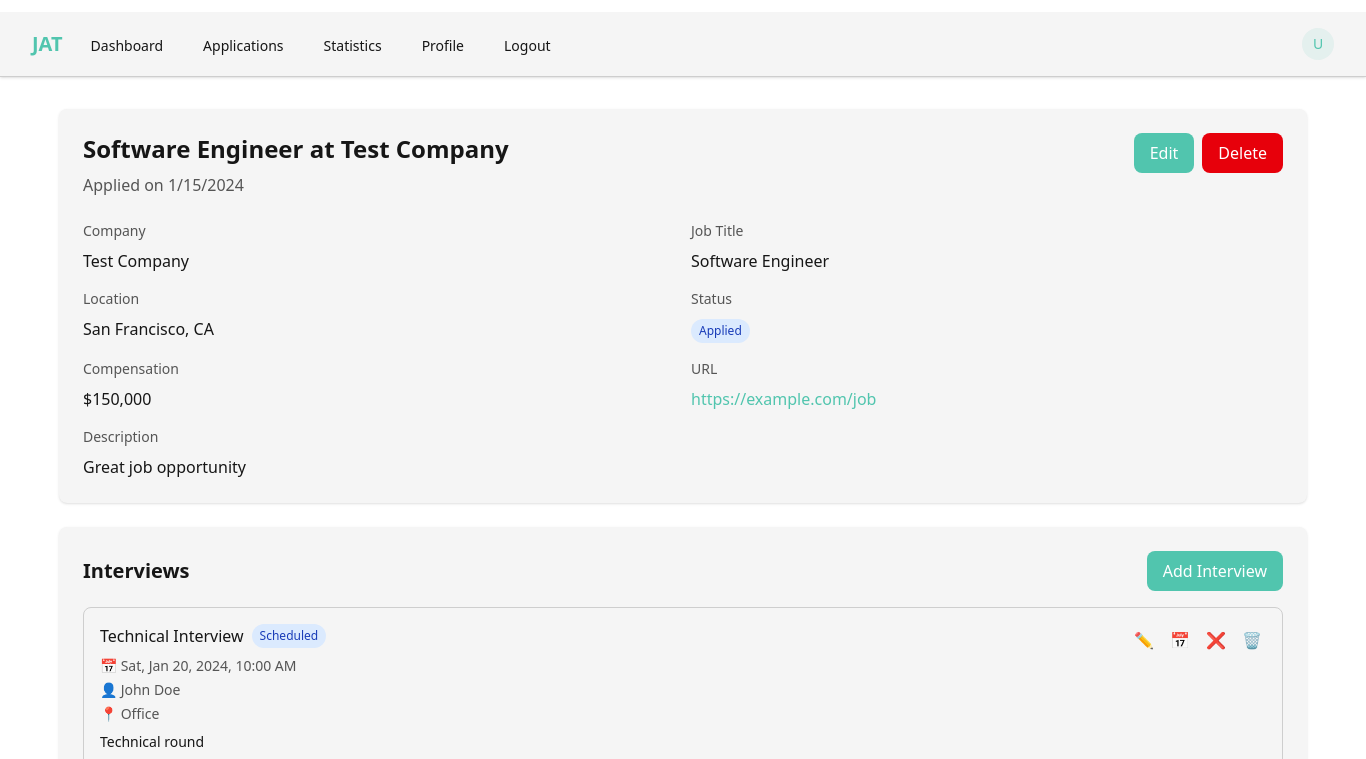
Test: ApplicationDetail Component › Edit Application › should handle save errors gracefully
Expected: the text "Software Engineer" is shown, [691,250,829,272]
Click the button "Edit": click(1164, 153) [1134,133,1194,173]
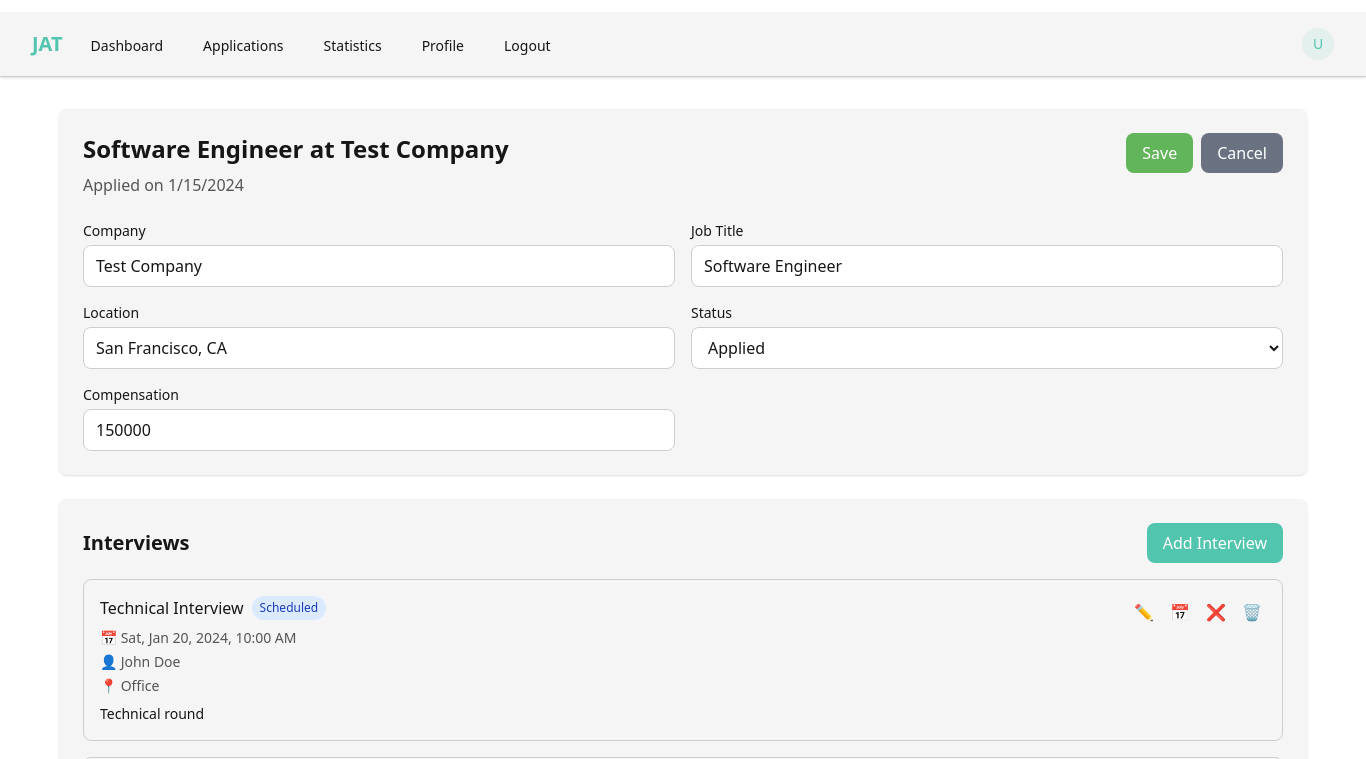
Click the button "Save": click(1160, 153) [1126,133,1193,173]
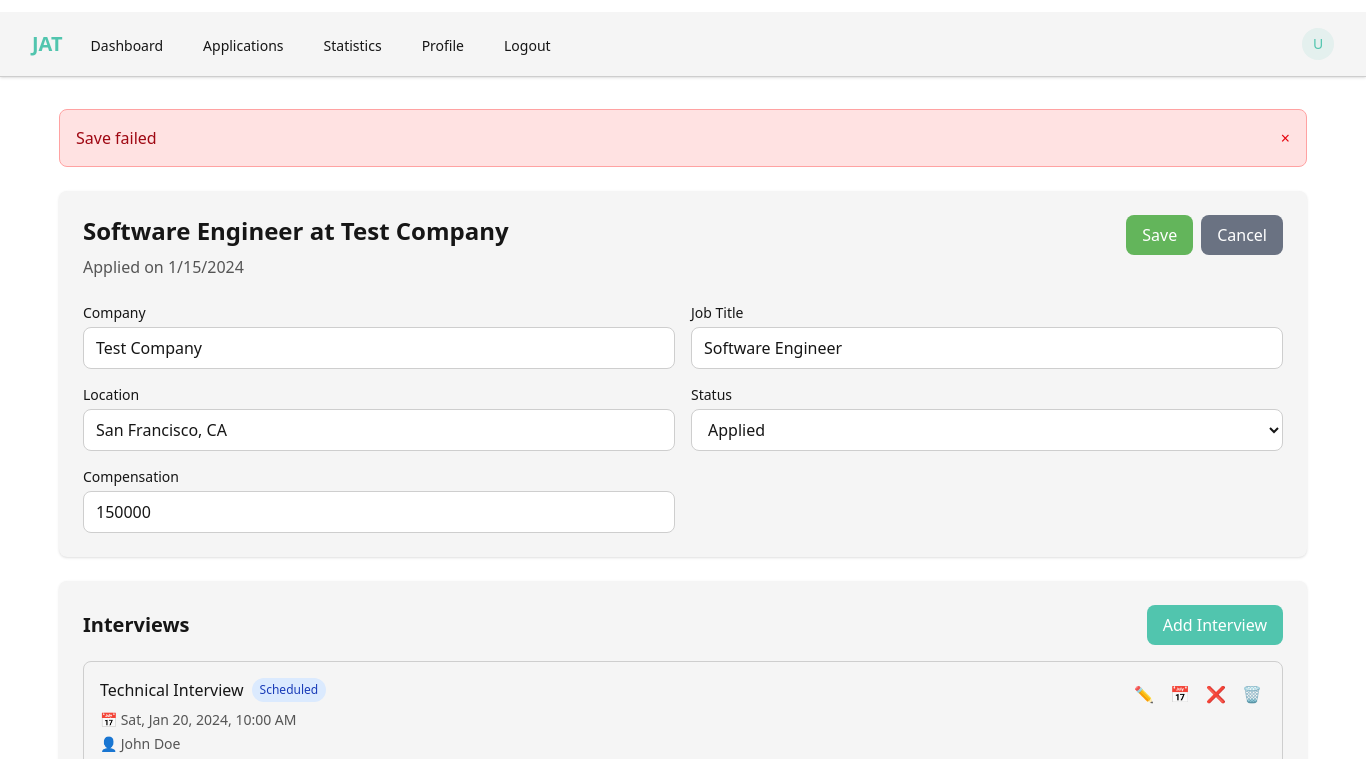
Expected: the text "Save failed" is shown, [76,126,157,150]
